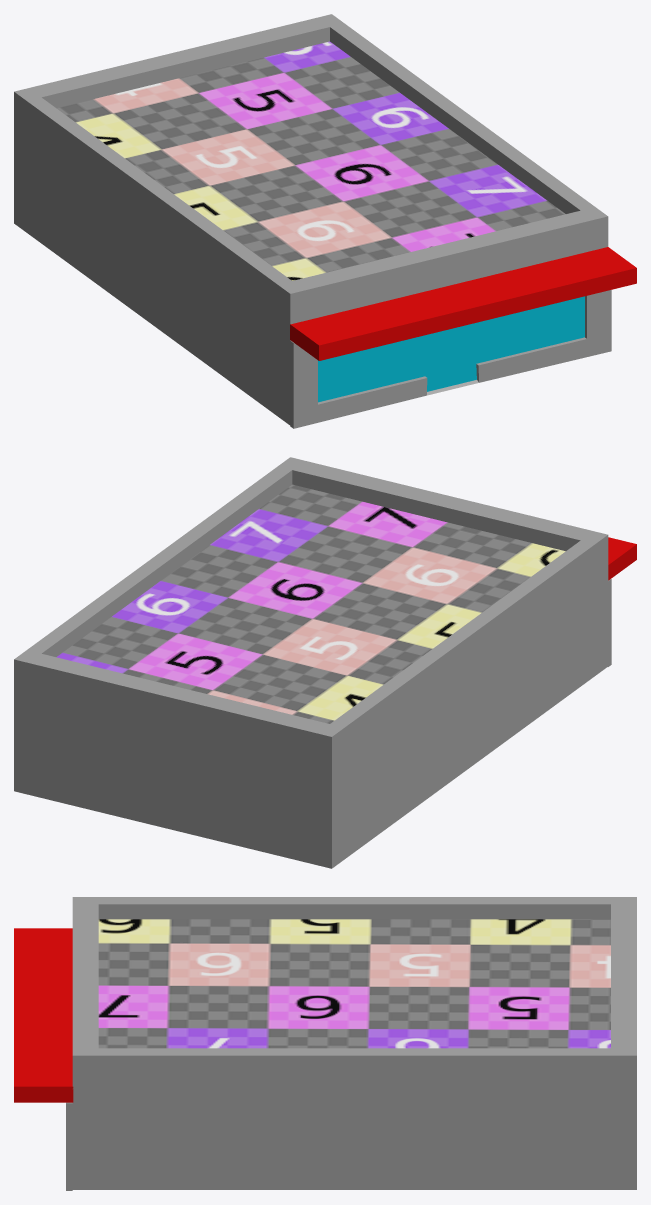
File: DanceStudio.fbx
3 renders of one model, top to bottom at view 1: azimuth 30°, elevation 25°; view 2: azimuth 150°, elevation 25°; view 3: azimuth 270°, elevation 25°, orthographic. The views are drawn at different scales.
Parts seen in each view (by area): view 1: pCube18; view 2: pCube18; view 3: pCube18.
Boxes of the visible parts, <box> form: pCube18: <box>14,14,636,428</box>; pCube18: <box>14,457,636,868</box>; pCube18: <box>14,897,636,1190</box>.
Size of the model in its own units: 11.89 by 4.79 by 19.77.
